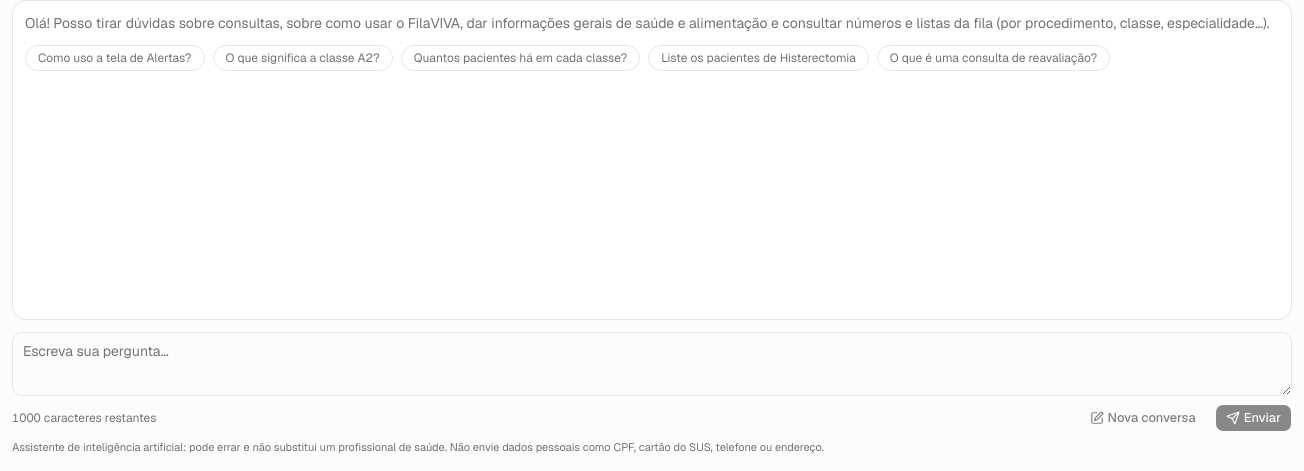
Test: Chat: recusas, substituição e erros › mostra a recusa do assistente como resposta
In the text box labelled "sua pergunta": (652,364) [12,332,1292,396], type "receita de bolo"
Then press Enter
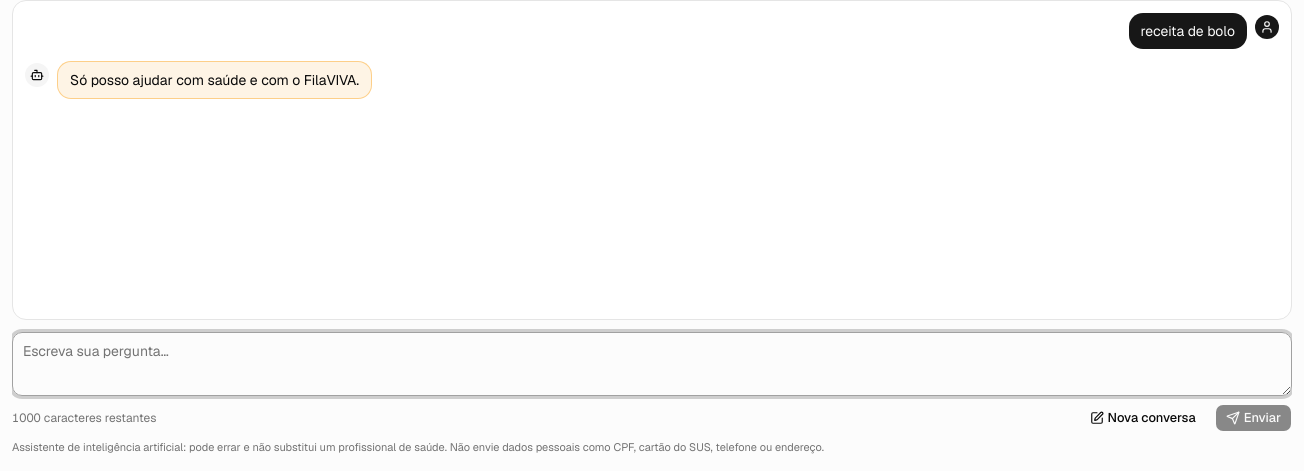
Expected: the text "Só posso ajudar com saúde e com o FilaVIVA." is shown, [57,61,372,99]
